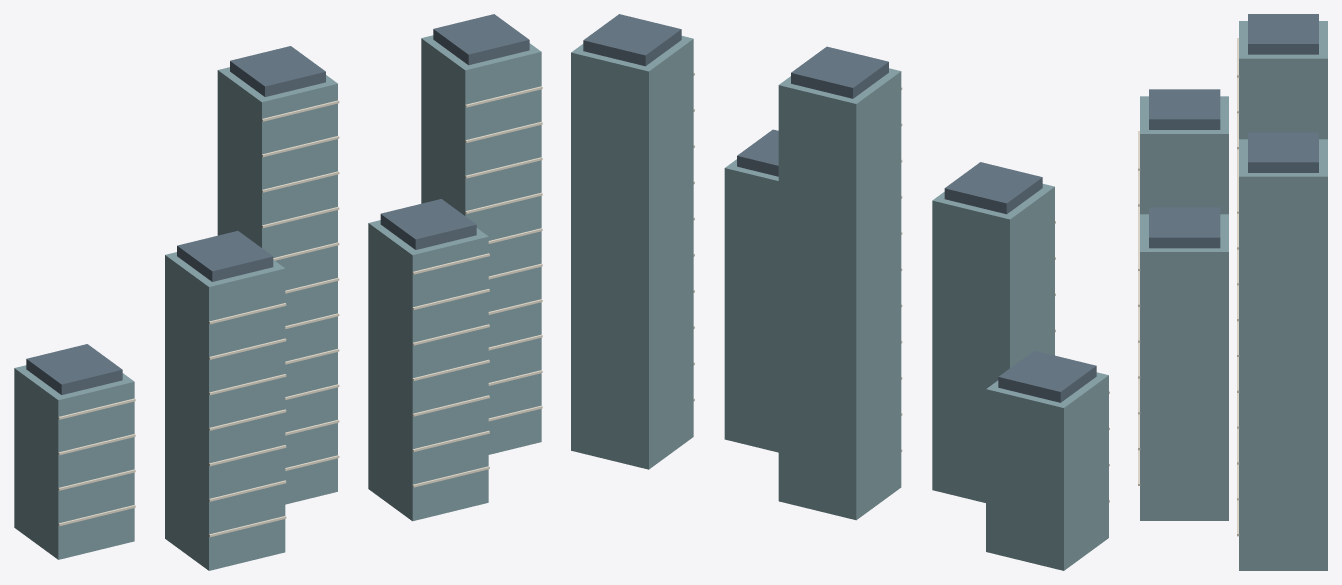
Rendered from skyline.glb.
3 views of the same model, side by side, from view 1: azimuth 30°, elevation 25°; view 2: azimuth 150°, elevation 25°; view 3: azimuth 270°, elevation 25° (orthographic). The views are drawn at different scales.
Visible parts, largest first — view 1: skyline; view 2: skyline; view 3: skyline.
Part boxes in pixels (bbox=[...]): skyline: bbox=[14, 14, 542, 570]; skyline: bbox=[571, 14, 1109, 570]; skyline: bbox=[1138, 14, 1327, 570].
Size of the model in its own units: 28.5 by 23.6 by 9.61.
